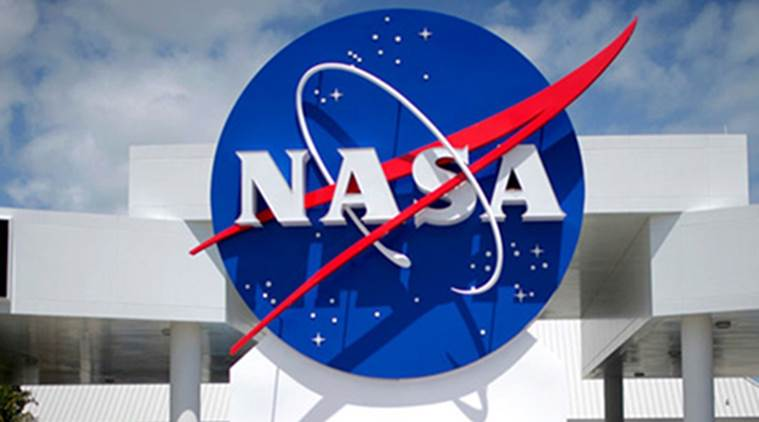NASA: (186, 11, 639, 380)
